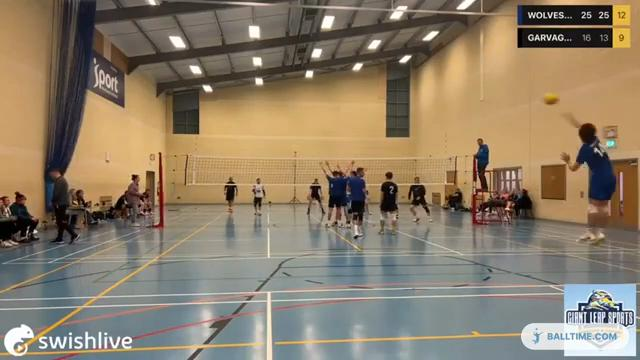battuta: (554, 107, 615, 252)
